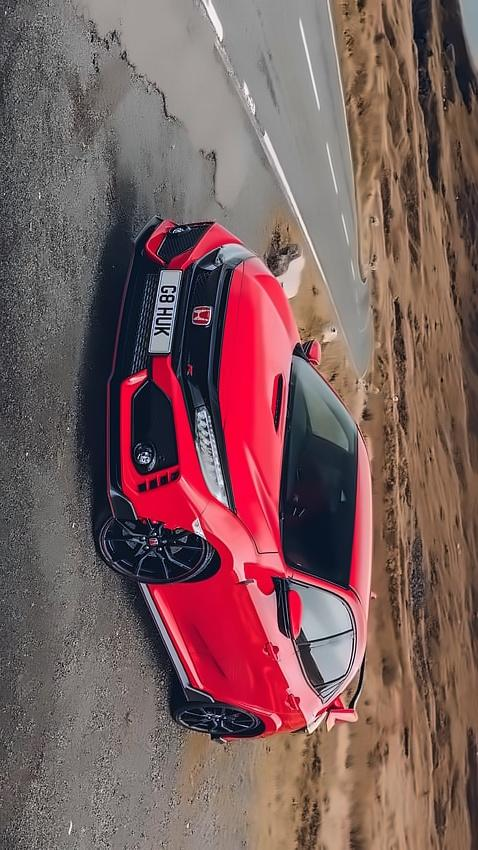Car hood: (216, 251, 292, 557)
Fender - -F-L-: (142, 492, 297, 587)
Fender - -R-L-: (203, 695, 306, 734)
Front bumper: (101, 203, 207, 538)
Headlight - -L-: (189, 397, 237, 519)
Headlight - -R-: (208, 231, 266, 273)
Passenger-s door - -F-L-: (148, 572, 362, 662)
Passenger-s door - -R-L-: (180, 656, 364, 717)
Rear bumper: (208, 729, 261, 754)
Rear light - -L-: (286, 711, 334, 743)
Side bumper - -L-: (133, 576, 220, 709)
Side mirror - -L-: (271, 577, 306, 641)
Side mirror - -R-: (293, 325, 331, 373)
